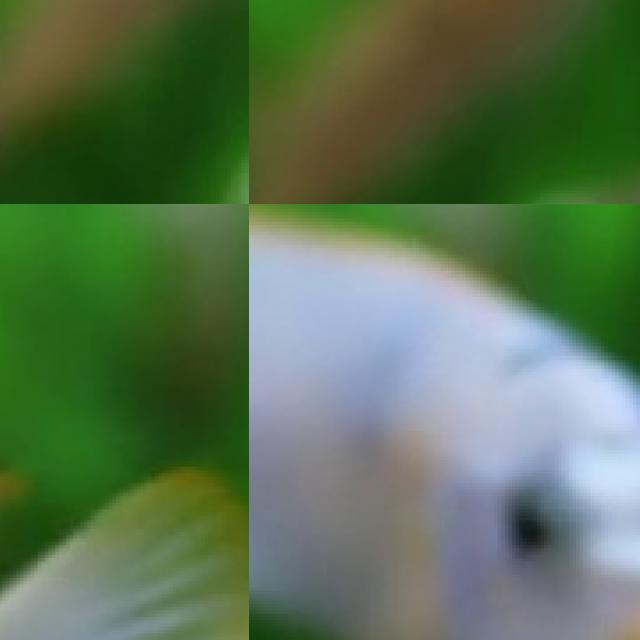fish: (0, 0, 249, 204)
